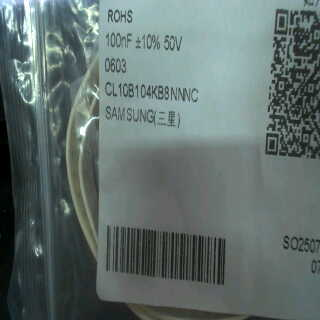100nF: (105, 30, 135, 52)
